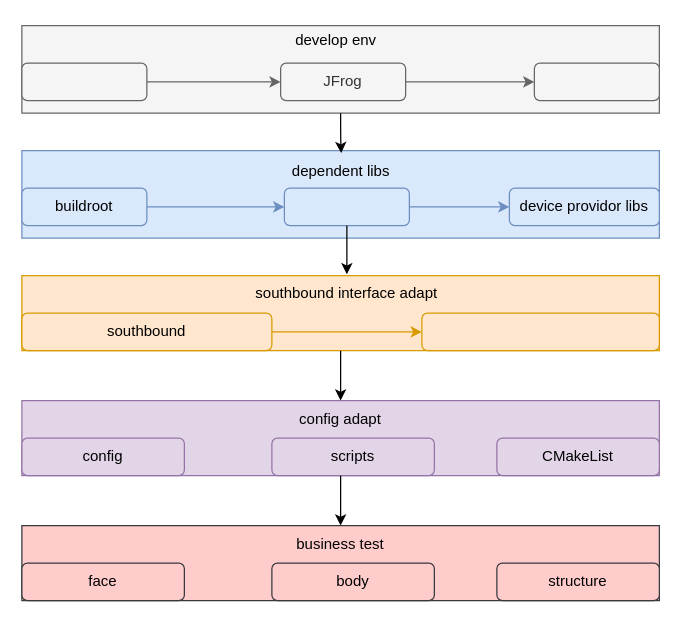
The diagram is 681 pixels wide and 623 high, and some of its shapes have lost their labels. The shapes that lost their labels are listed below. From the top down, each one's centre as x and y in pixels, then its label:
At [84,81]: "cross compiler".
At [596,81]: "conan".
At [346,206]: "sensetime libs".
At [540,331]: "southbound impl".
